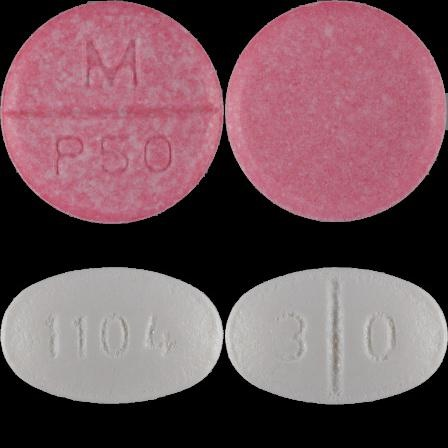0615-7764: (0, 0, 224, 224)
